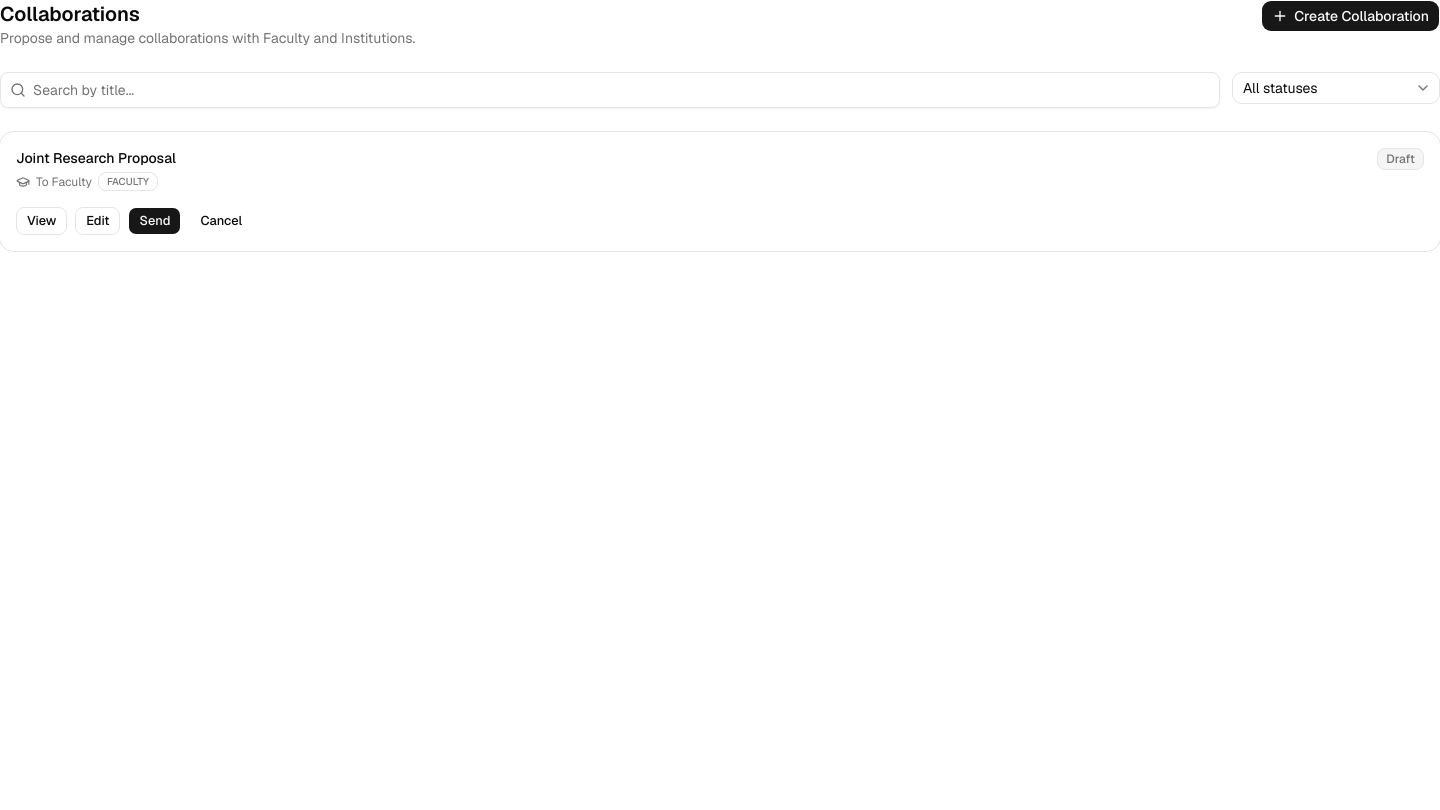
Test case: CollaborationsListView › sends a draft proposal through the confirmation dialog
Expected: the link "Joint Research Proposal" is shown, 16,148 -> 176,168
Click the button "Send" at (155, 221), box 128,207 -> 182,235
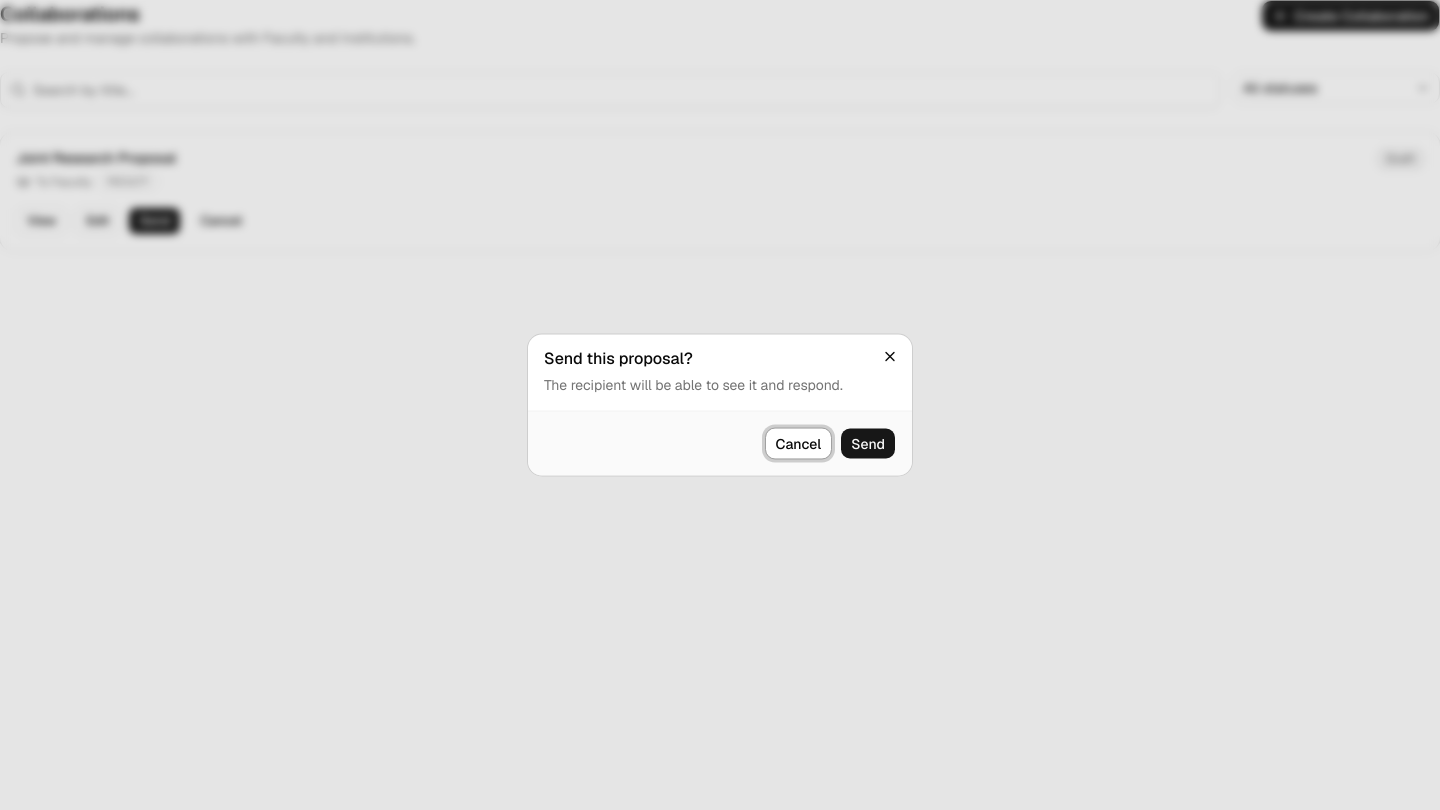
Click the button "Send" at (868, 444), box 840,428 -> 896,460
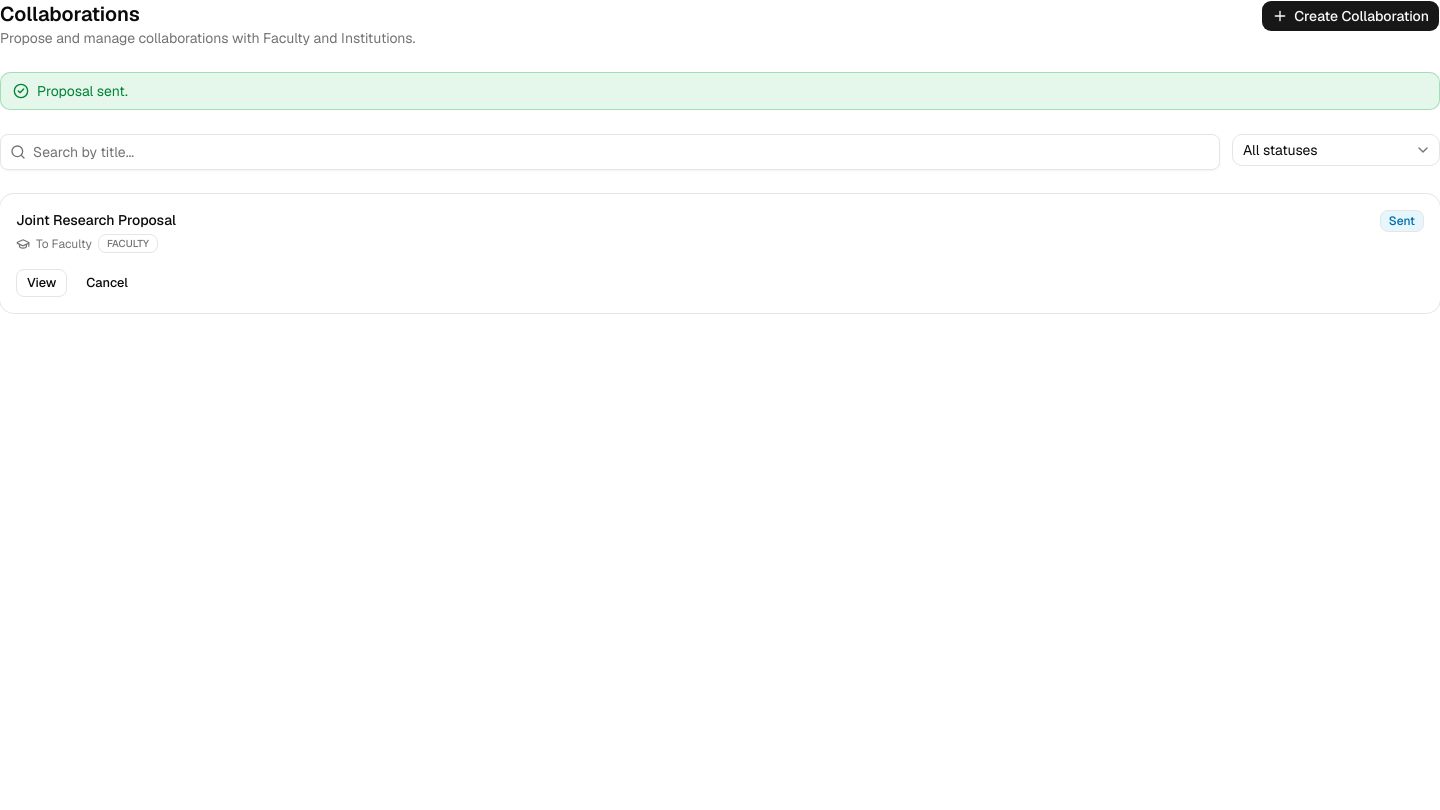
Expected: the text "Proposal sent." is shown, 37,81 -> 128,101
